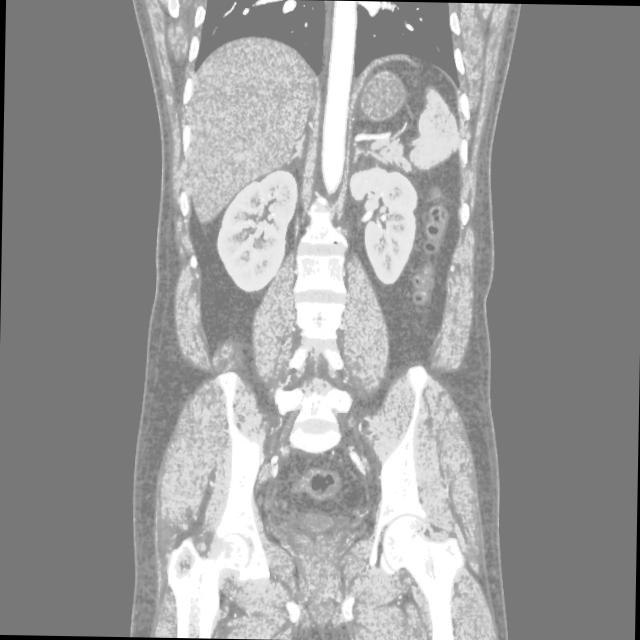NORMAL: (92, 41, 544, 500)
